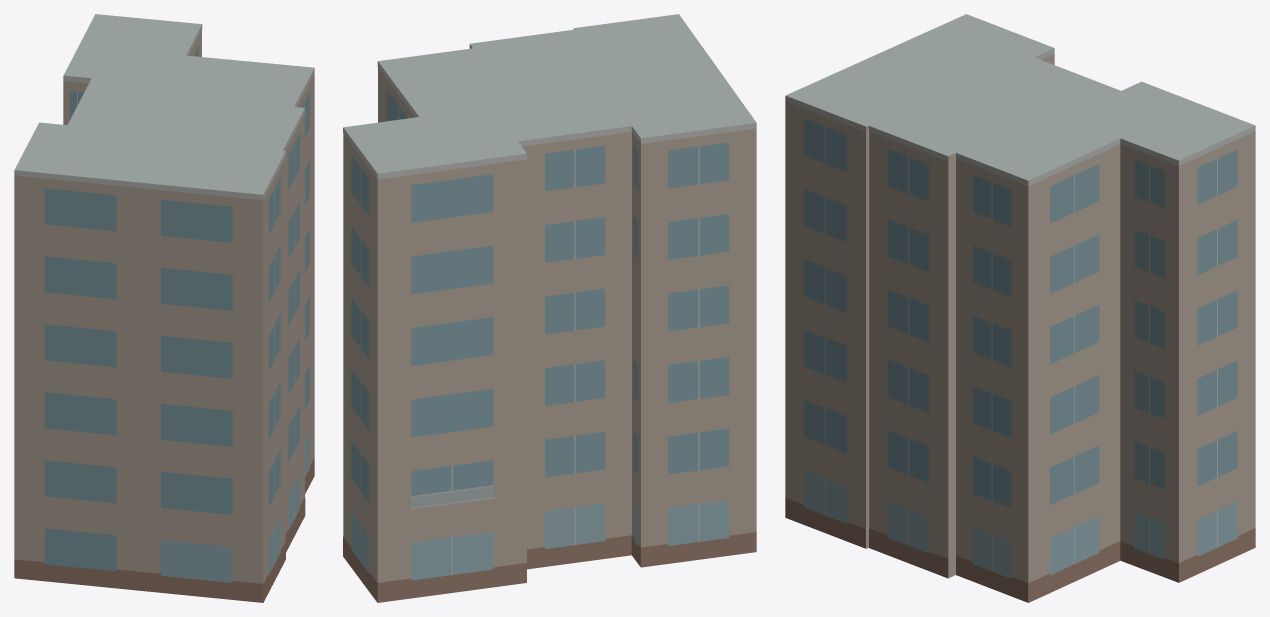
Rendered from survey-upis-32723242.glb.
The picture shows the model from 3 angles, left to right: view 1: azimuth 30°, elevation 25°; view 2: azimuth 150°, elevation 25°; view 3: azimuth 270°, elevation 25°; orthographic projection. The views are drawn at different scales.
Visible parts, largest first — view 1: survey-upis-32723242.tmp; view 2: survey-upis-32723242.tmp; view 3: survey-upis-32723242.tmp.
Boxes of the visible parts, x1,y1,x2,y2 form: survey-upis-32723242.tmp: (14,14,314,602); survey-upis-32723242.tmp: (343,14,756,602); survey-upis-32723242.tmp: (785,14,1255,602).
Bounding box in the file's own units: 15.51 × 18.3 × 18.48.
